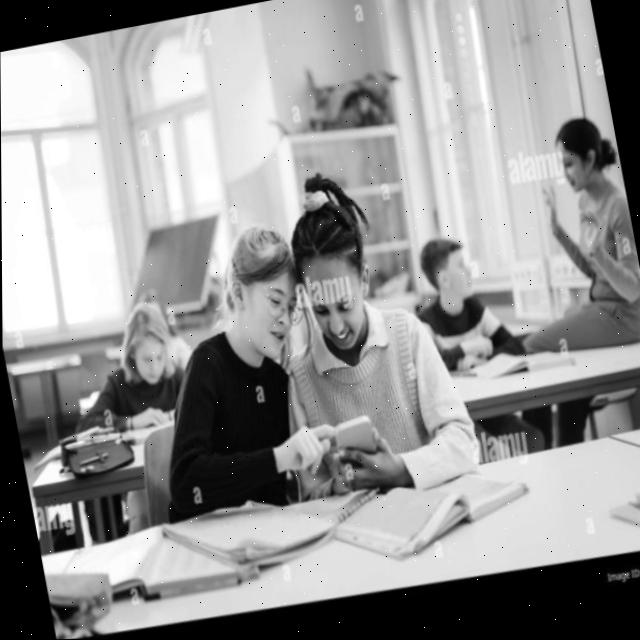phone: (328, 413, 380, 471)
